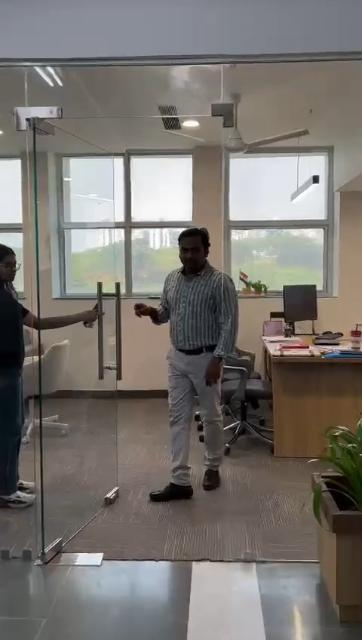floor: (4, 562, 308, 640), (108, 499, 306, 561)
moving-obj: (133, 230, 265, 496), (0, 212, 68, 528)
object: (305, 422, 362, 639), (274, 282, 324, 336)
wall: (22, 162, 56, 298), (340, 128, 362, 332), (198, 156, 228, 228)
